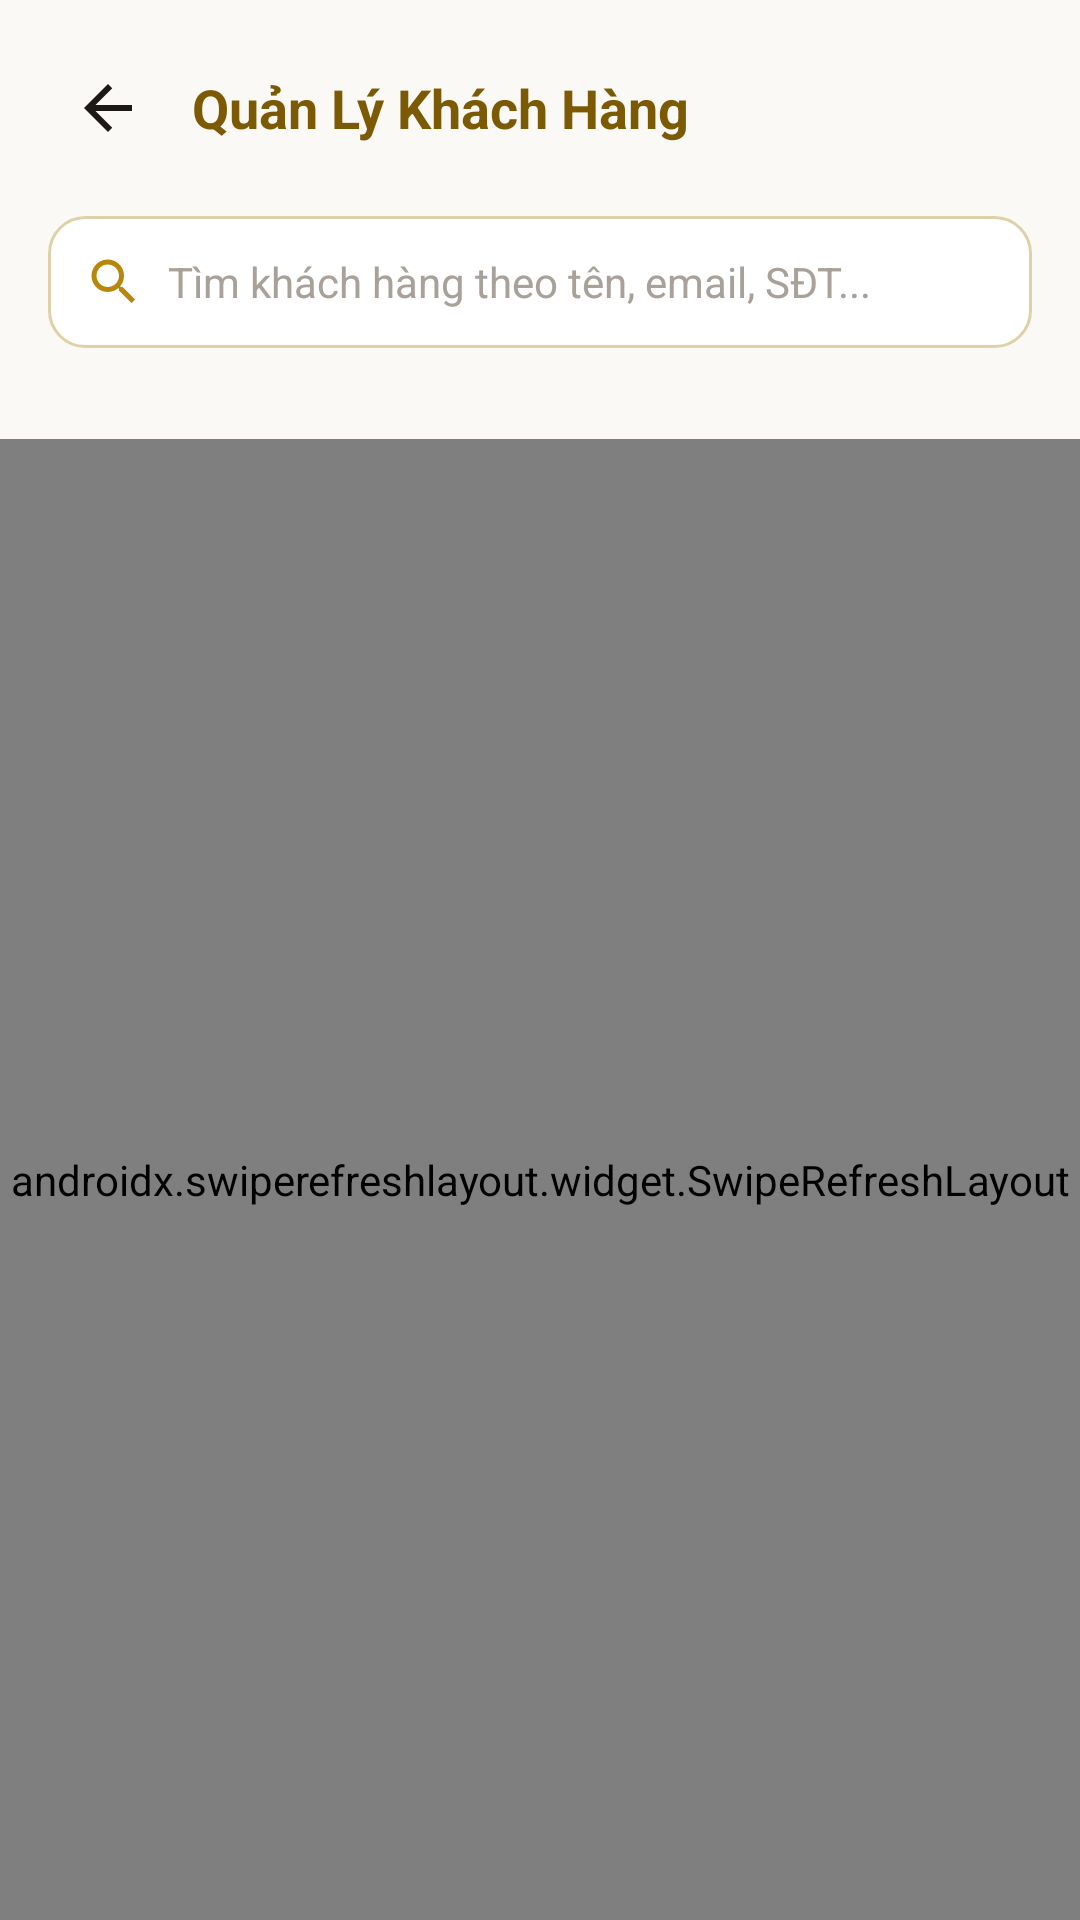

Screen size 1080×1920. Icon name, then its box in pixels as [x1,y1,x2,y2]:
Quay lại: [84,84,132,132]
Tìm kiếm: [91,259,135,303]
